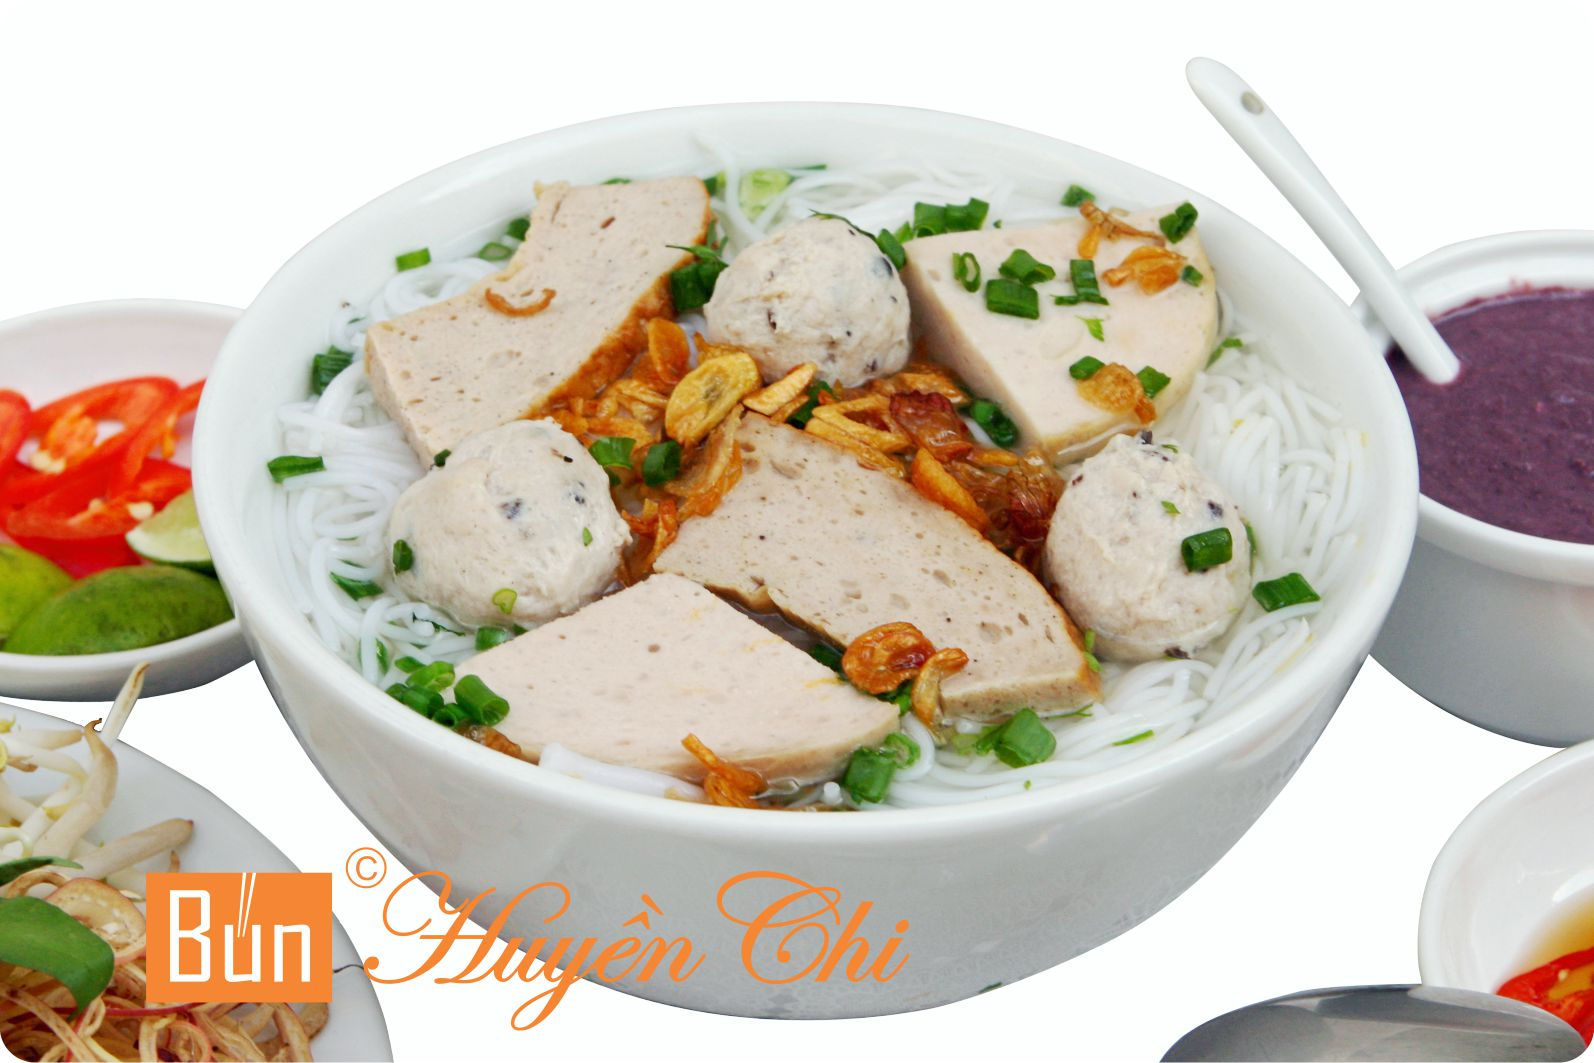chamoc: (735, 406, 1095, 714), (376, 161, 714, 444), (478, 566, 894, 788), (905, 219, 1241, 446), (1048, 437, 1260, 669), (394, 419, 629, 623), (721, 204, 908, 388)
